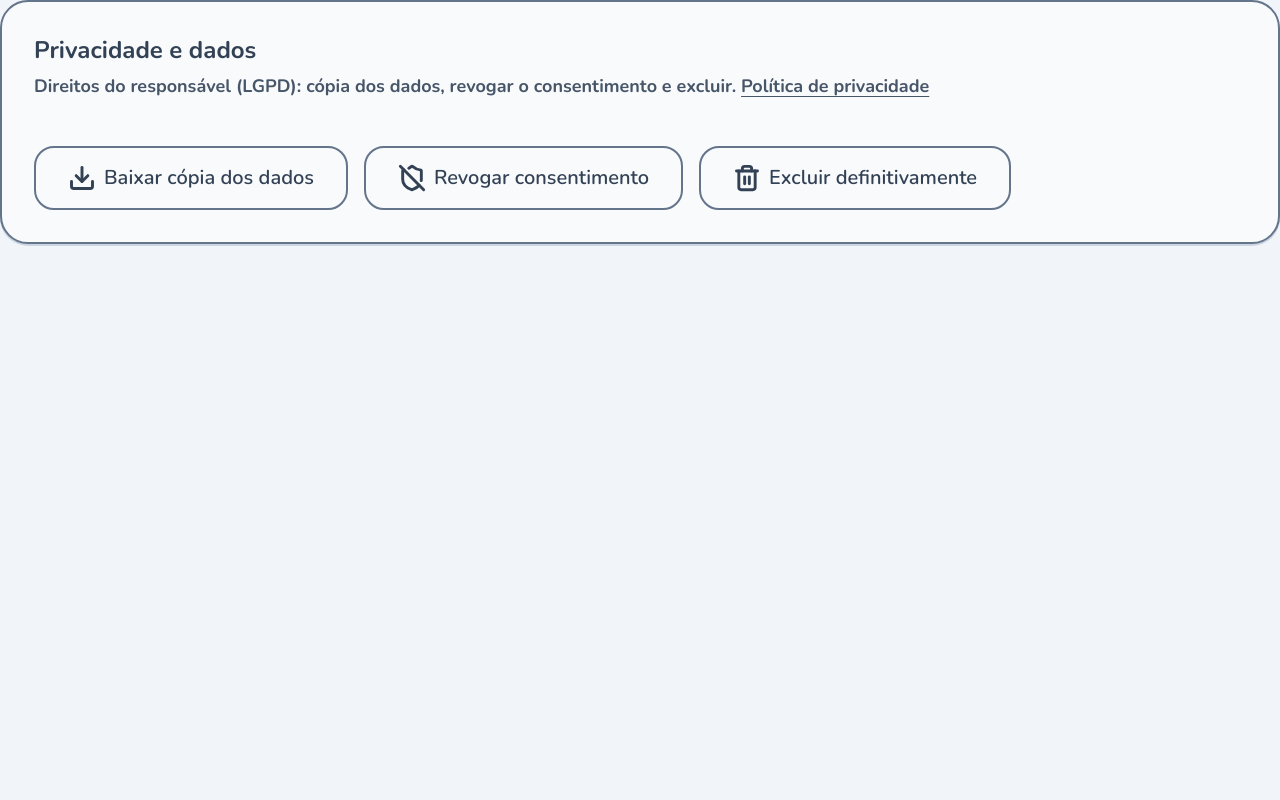
Test: excluir definitivamente › avisa quando outros profissionais também perdem o acesso
Click the button "Excluir definitivamente": (855, 178) [699,146,1011,210]
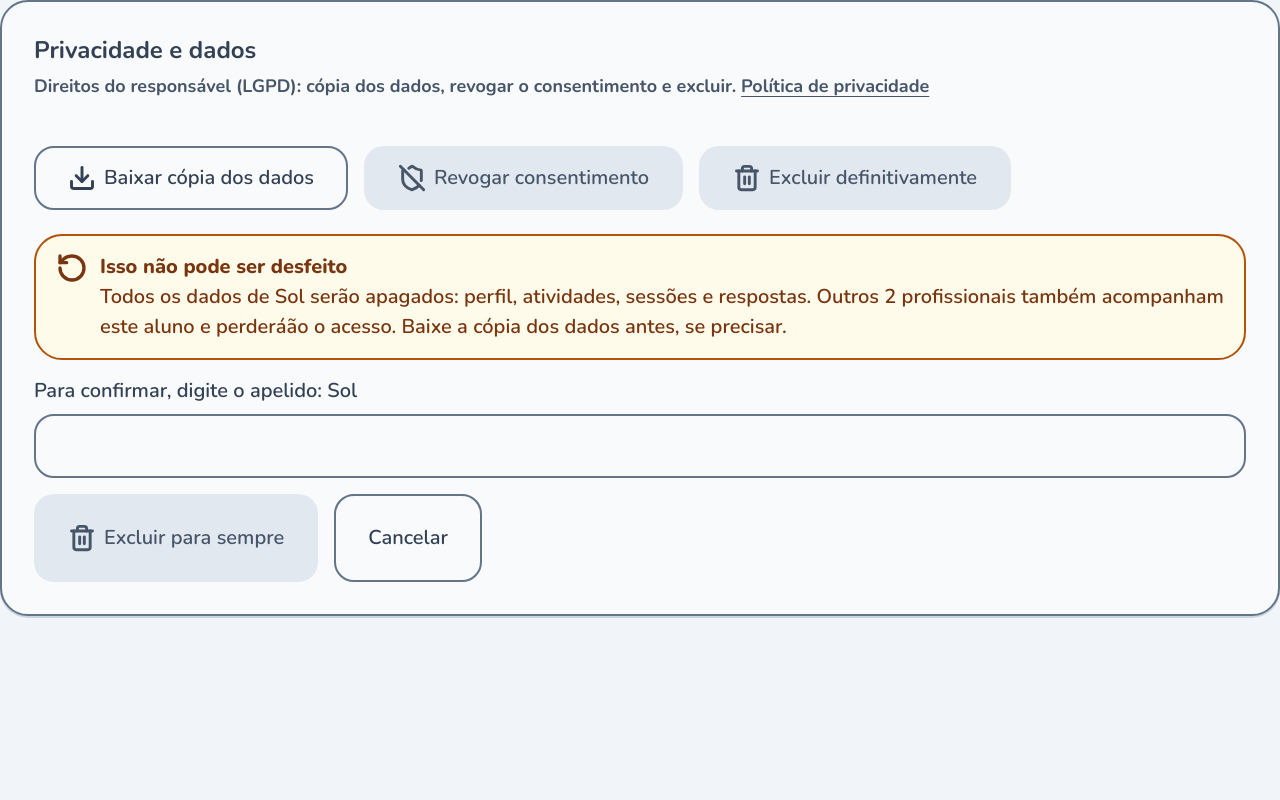
Expected: the text "Outros 2 profissionais também acompanham este aluno" is shown, [100,283,1224,340]
